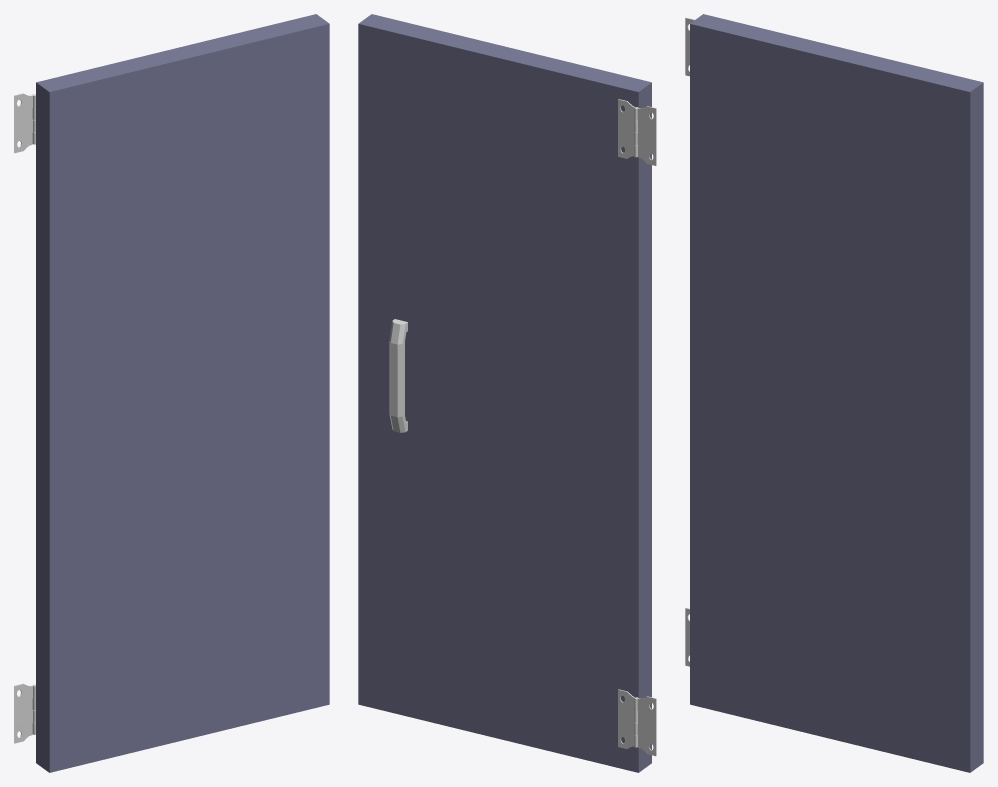
The model's file is DeurEnkel_LOD0.fbx.
3 renders of one model, left to right at view 1: azimuth 30°, elevation 25°; view 2: azimuth 150°, elevation 25°; view 3: azimuth 330°, elevation 25°, orthographic.
Visible parts, largest first — view 1: DeurEnkel_LOD0; view 2: DeurEnkel_LOD0; view 3: DeurEnkel_LOD0.
Boxes of the visible parts, bbox=[...] form: DeurEnkel_LOD0: bbox=[14, 14, 329, 772]; DeurEnkel_LOD0: bbox=[358, 14, 656, 772]; DeurEnkel_LOD0: bbox=[685, 14, 983, 772].
Size of the model in its own units: 0.922 by 2 by 0.1104.
